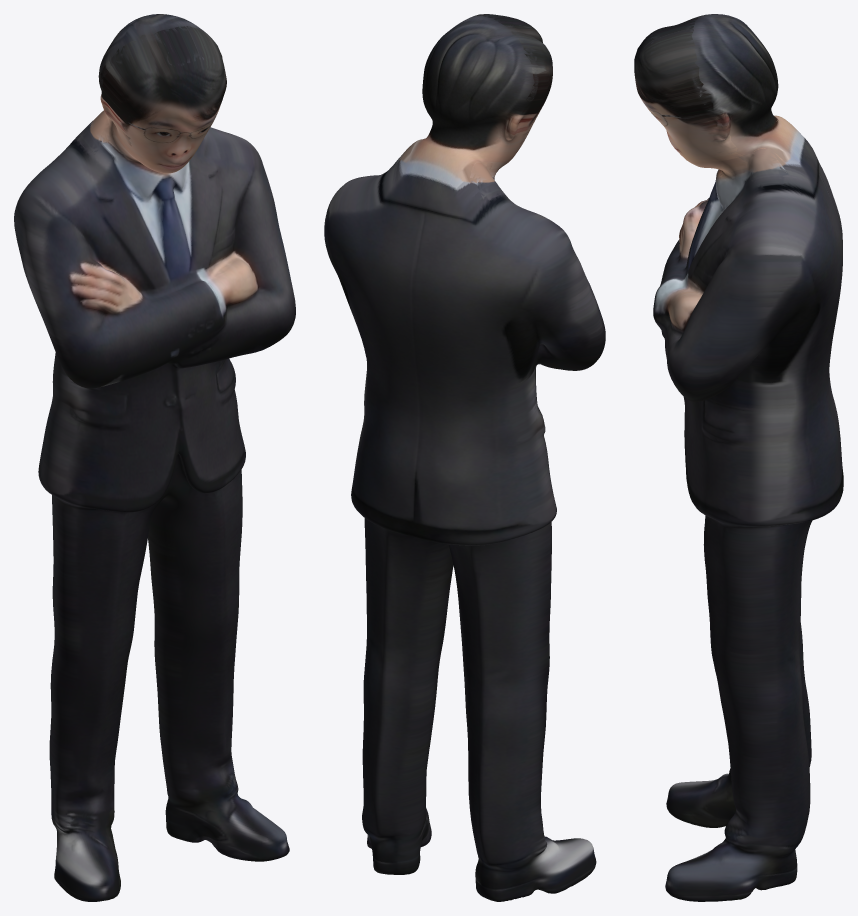
The model's file is Coach2.fbx.
The picture shows the model from 3 angles, left to right: view 1: azimuth 30°, elevation 25°; view 2: azimuth 150°, elevation 25°; view 3: azimuth 270°, elevation 25°; orthographic projection. The views are drawn at different scales.
Visible parts, largest first — view 1: Coach2; view 2: Coach2; view 3: Coach2.
Boxes of the visible parts, x1,y1,x2,y2 form: Coach2: (14,14,295,901); Coach2: (324,14,605,901); Coach2: (634,14,843,901).
Size of the model in its own units: 51.79 by 173 by 39.64.
Materials: 1 (1 with a texture image).
